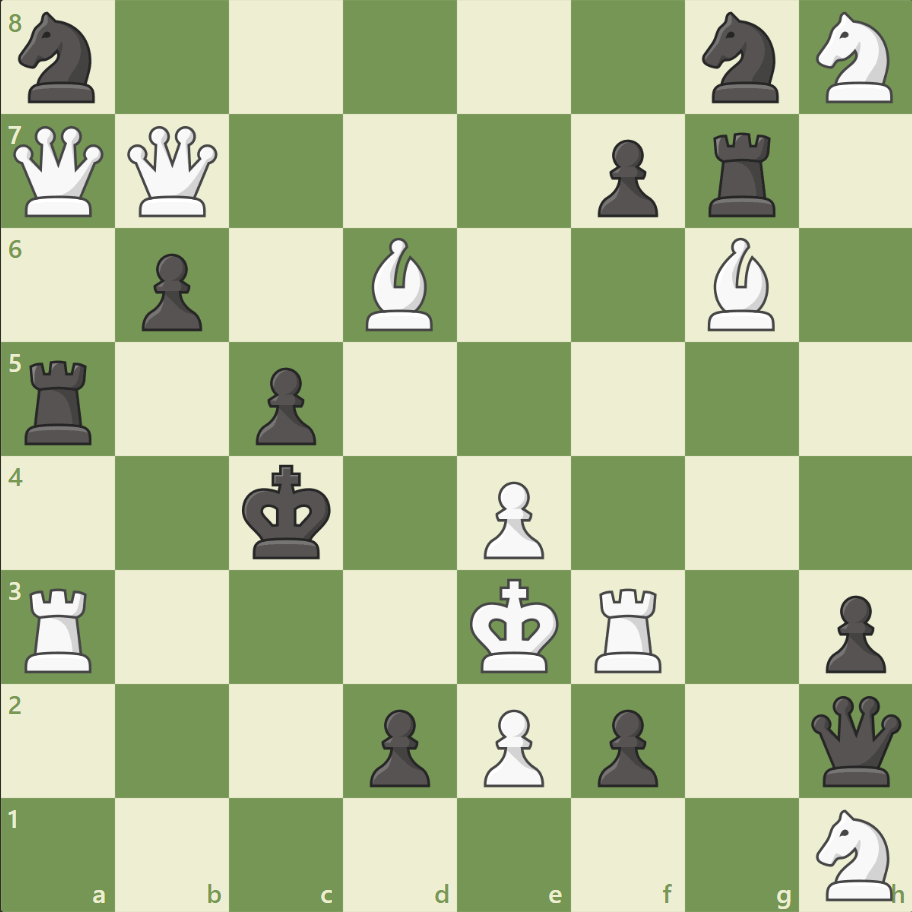B: (358, 233, 442, 336), (698, 233, 782, 336)
K: (465, 571, 565, 679)
N: (806, 7, 903, 110), (806, 802, 903, 904)
P: (474, 473, 549, 564), (474, 700, 549, 791)
Q: (10, 122, 109, 222), (124, 122, 223, 222)
R: (19, 579, 102, 676), (587, 579, 670, 676)
k: (238, 458, 338, 566)
n: (11, 7, 108, 110), (692, 7, 789, 110)
p: (133, 246, 208, 337), (247, 359, 322, 450), (588, 132, 662, 223), (815, 586, 889, 677), (361, 700, 435, 791), (588, 700, 662, 791)
q: (805, 690, 904, 789)
r: (700, 125, 783, 222), (19, 352, 102, 449)
